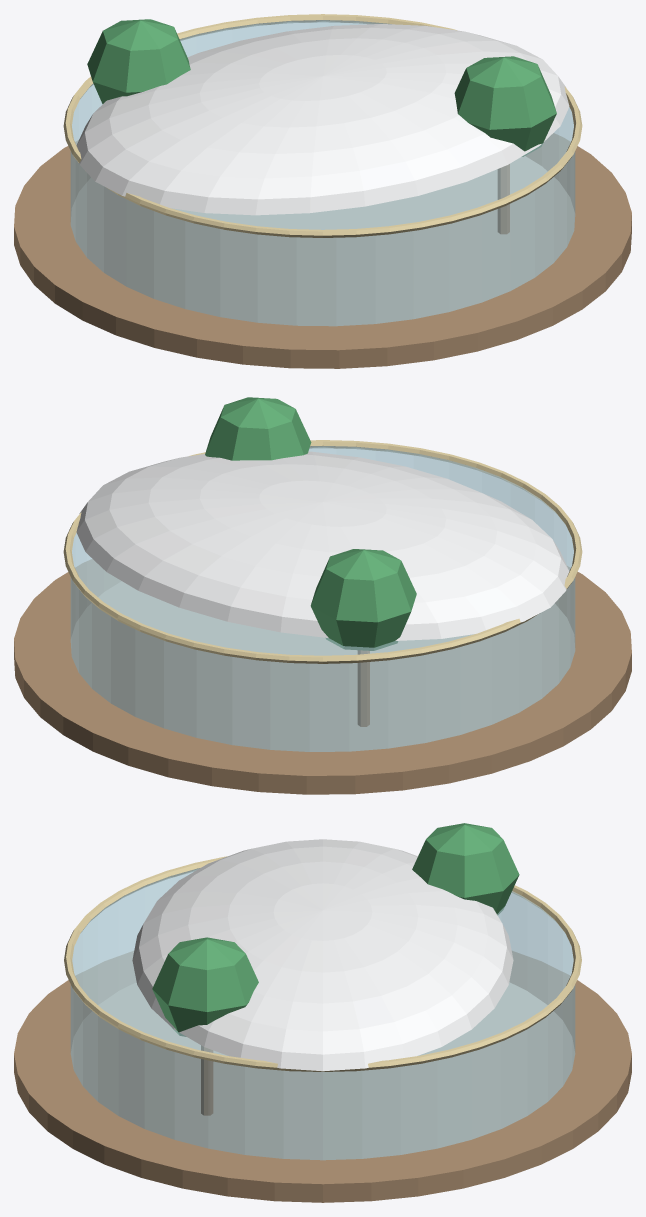
The model's file is reef-home-M.glb.
3 renders of one model, top to bottom at view 1: azimuth 30°, elevation 25°; view 2: azimuth 150°, elevation 25°; view 3: azimuth 270°, elevation 25°, orthographic.
Parts seen in each view (by area): view 1: Cylinder.013, Sphere.011, Cylinder.014, Sphere.012, Torus.213; view 2: Cylinder.013, Sphere.011, Cylinder.014, Sphere.012, Torus.213; view 3: Cylinder.013, Cylinder.014, Sphere.011, Sphere.012, Torus.213.
Boxes of the visible parts, x1,y1,x2,y2 form: Cylinder.013: [14, 133, 631, 368]; Sphere.011: [76, 24, 569, 215]; Cylinder.014: [70, 20, 575, 326]; Sphere.012: [87, 19, 556, 156]; Torus.213: [63, 14, 582, 237]; Cylinder.013: [14, 559, 631, 794]; Sphere.011: [76, 451, 569, 640]; Cylinder.014: [70, 446, 575, 751]; Sphere.012: [205, 397, 416, 650]; Torus.213: [63, 440, 582, 663]; Cylinder.013: [14, 951, 631, 1202]; Cylinder.014: [70, 868, 575, 1160]; Sphere.011: [132, 839, 513, 1071]; Sphere.012: [152, 823, 519, 1036]; Torus.213: [64, 856, 581, 1071].
Size of the model in its own units: 18 by 6.2 by 18.
